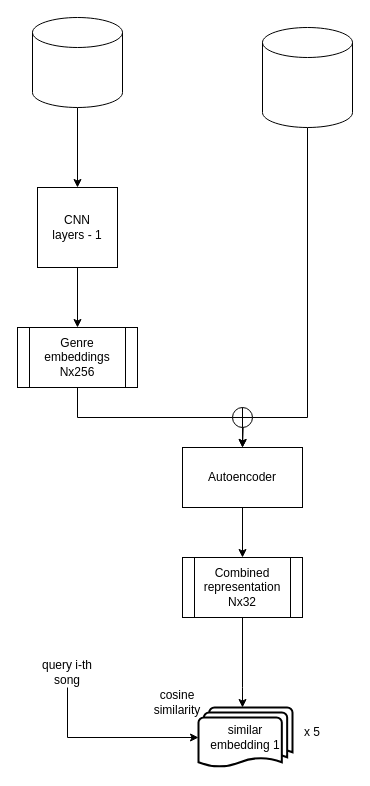
This 370x786 diagram has some shape labels left out. Here are the shapes that lost their labels. From the top down, the centre of each, then its label:
At [77,62]: "GTZAN Song database (raw audio) Kx64x1024".
At [307,77]: "Million Song Database (text metadata) Mx14".
